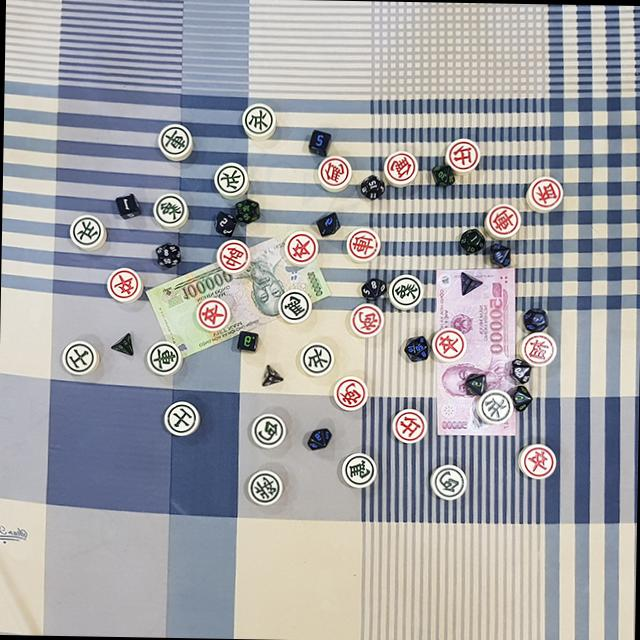black-advisor: (158, 398, 202, 442), (59, 336, 98, 380)
black-cannon: (423, 458, 470, 502), (245, 411, 286, 452)
black-chariot: (151, 118, 193, 164), (142, 338, 184, 379)
black-elephant: (150, 190, 190, 232), (384, 270, 424, 312)
black-general: (241, 465, 285, 510)
black-horse: (337, 448, 378, 490), (274, 288, 314, 326)
black-soldier: (472, 387, 516, 426), (236, 99, 275, 142), (211, 157, 250, 199), (64, 210, 104, 250), (297, 339, 335, 378)
red-advisor: (388, 402, 430, 447), (444, 134, 482, 176)
red-cannon: (328, 372, 369, 415), (346, 300, 386, 340)
red-chariot: (338, 222, 382, 264), (482, 201, 524, 241)
red-elephant: (524, 172, 566, 214), (518, 328, 558, 368)
red-general: (212, 234, 252, 280)
red-horse: (312, 151, 354, 192), (378, 147, 419, 186)
red-soldier: (512, 439, 558, 484), (105, 262, 144, 308), (426, 322, 468, 362), (281, 225, 319, 268), (192, 294, 230, 334)
